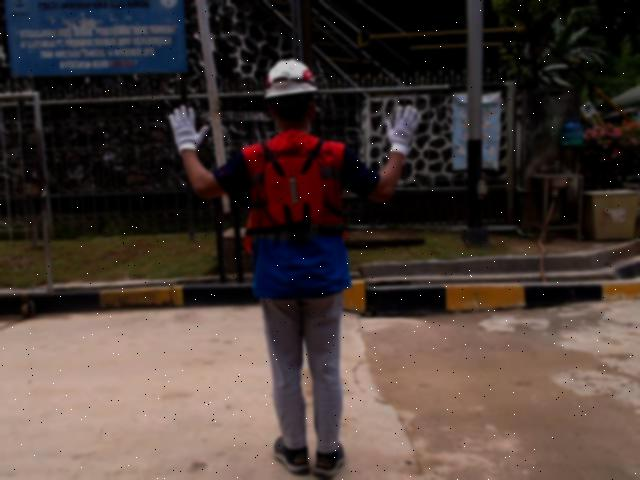gloves: (164, 103, 213, 157), (384, 103, 424, 157)
helmet: (259, 56, 321, 102)
safety-shoes: (271, 429, 312, 479), (312, 439, 344, 480)
vest: (264, 151, 325, 228)
